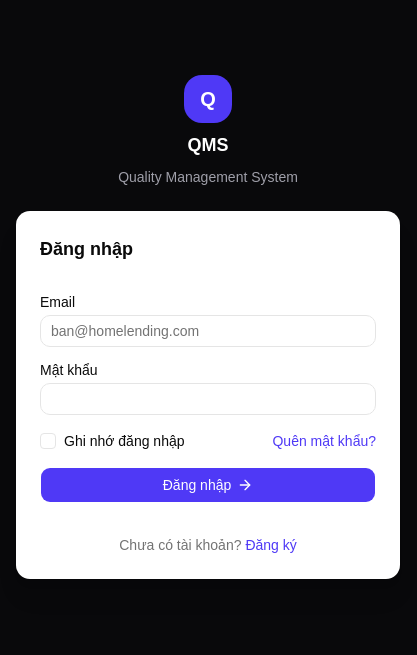
Test: LoginPage › shows a resend-verification button when the account is unverified
Type "an@example.com" into the field labelled "Email" at x=208, y=331, box left=40, top=315, right=376, bottom=347
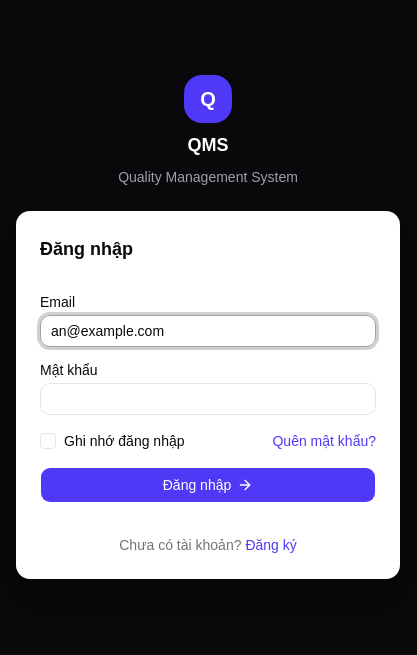
Type "password123" into the password field labelled "Mật khẩu" at x=208, y=399, box left=40, top=383, right=376, bottom=415
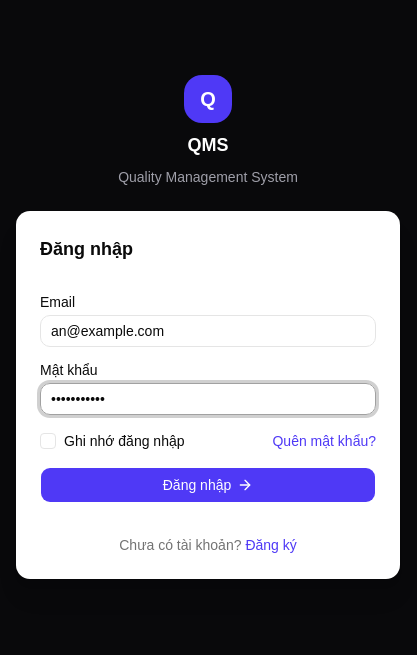
Click the button "Đăng nhập" at x=208, y=485, box left=40, top=467, right=376, bottom=503
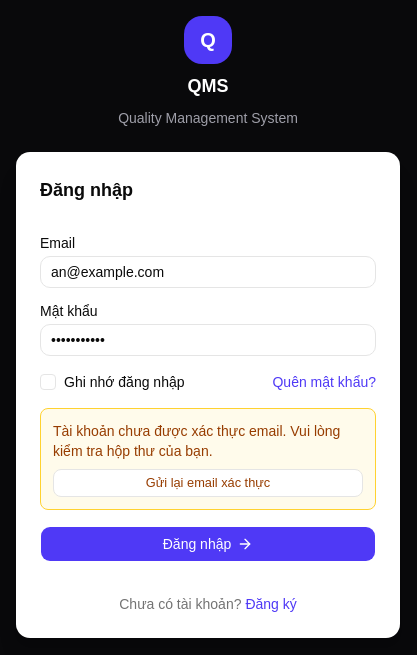
Expected: the button "Gửi lại email xác thực" is shown, left=53, top=469, right=363, bottom=497
